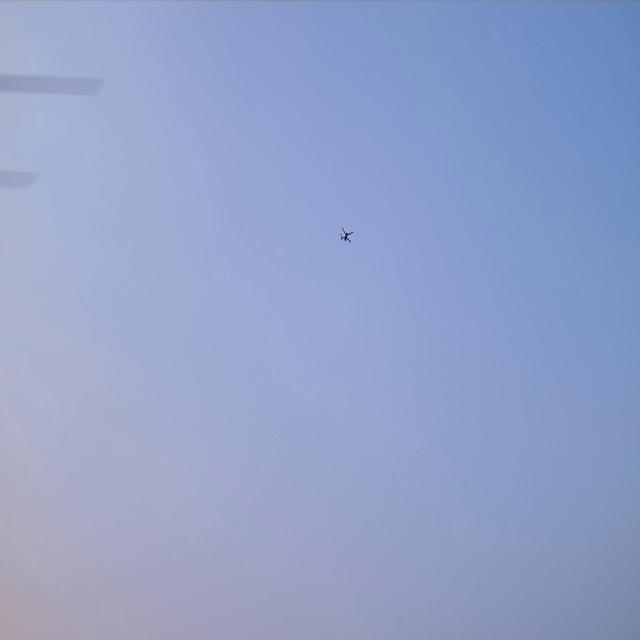UAV: (338, 225, 354, 247)
